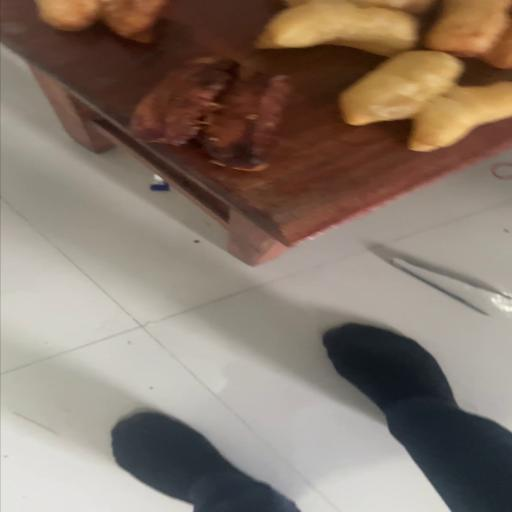street_golden_good: (256, 0, 512, 151)
